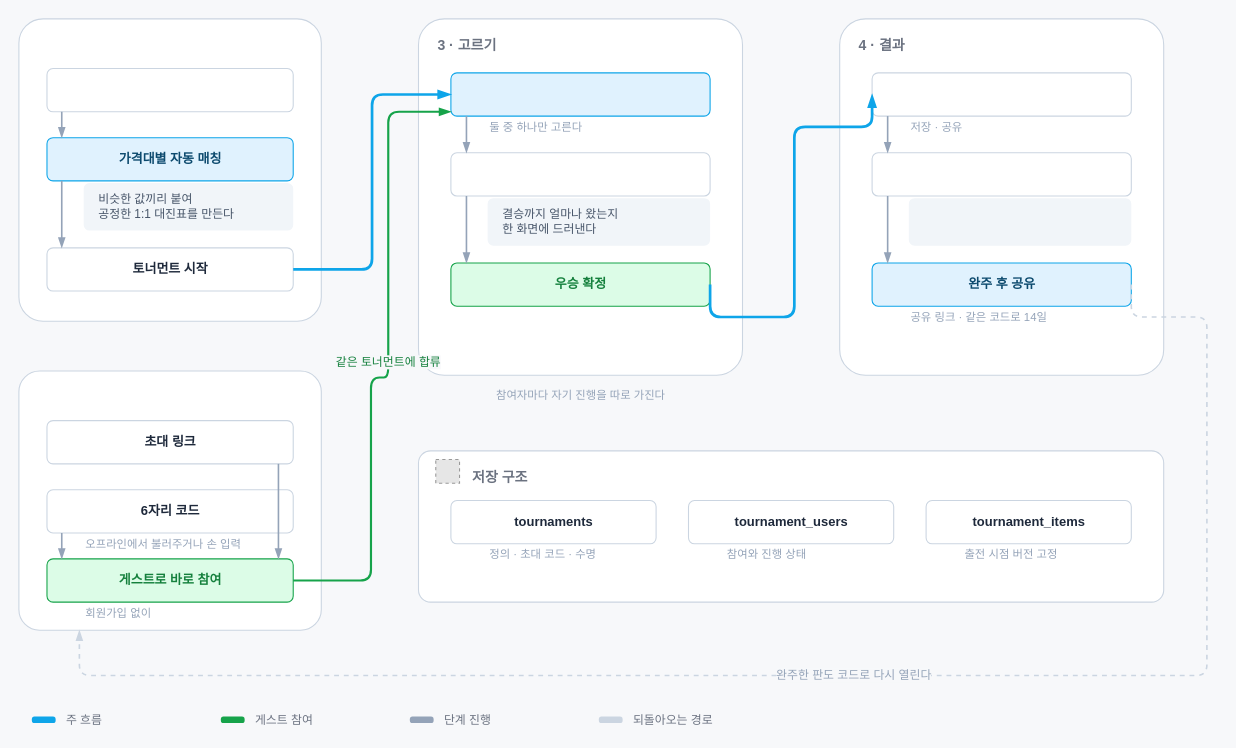
The diagram is 1236 pixels wide and 748 high, and some of its shapes have lost their labels. Grey dashed boxes stand in for pictures. The shapes that lost their labels are listed below. From the top down, each one's box as (x1, y1, x2, y2) in pixels, then its label:
(46, 68, 293, 112): 위시에서 후보 담기
(450, 72, 710, 116): 1:1 라운드
(871, 72, 1131, 116): 영수증
(18, 18, 321, 321): 1 · 만들기
(450, 152, 710, 196): 남은 선택 수 · 대진표
(871, 152, 1131, 196): 그룹 결과
(908, 198, 1131, 245): 누가 무엇을 골랐는지 서로의 선택을 비교한다
(18, 370, 321, 630): 2 · 부르기
